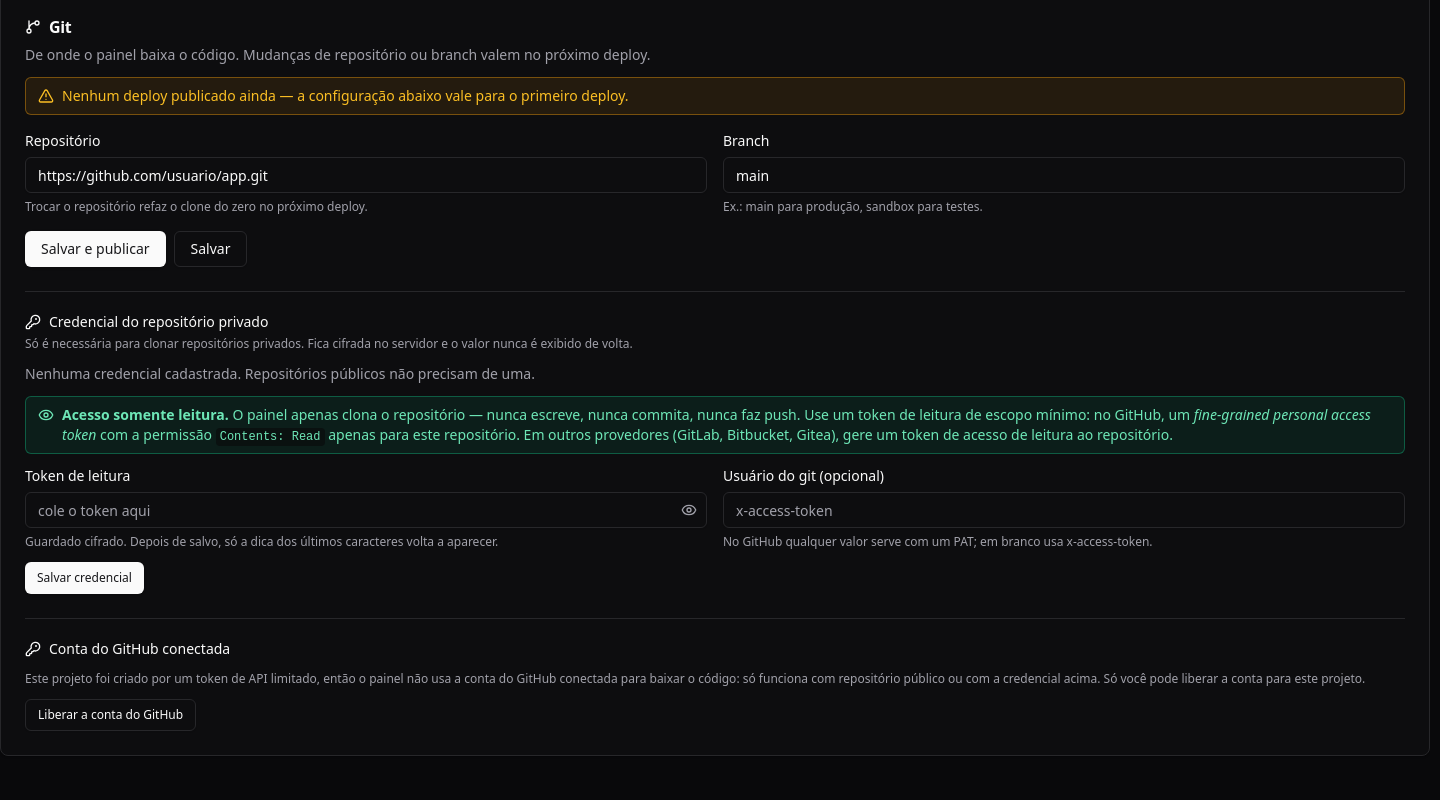
Test case: ProjectConfigCard — seção Geral › conta do GitHub num projeto criado por token limitado › bloqueado: explica e só libera com a senha (código opcional); a senha vai no corpo e o bloco fecha
The width and height of the screenshot is (1440, 800).
Expected: the element with test id "conta-github-bloqueada" shows "token de API limitado", [25,670,1365,687]
Click the button "Liberar a conta do GitHub": (111, 715) [25,699,196,731]
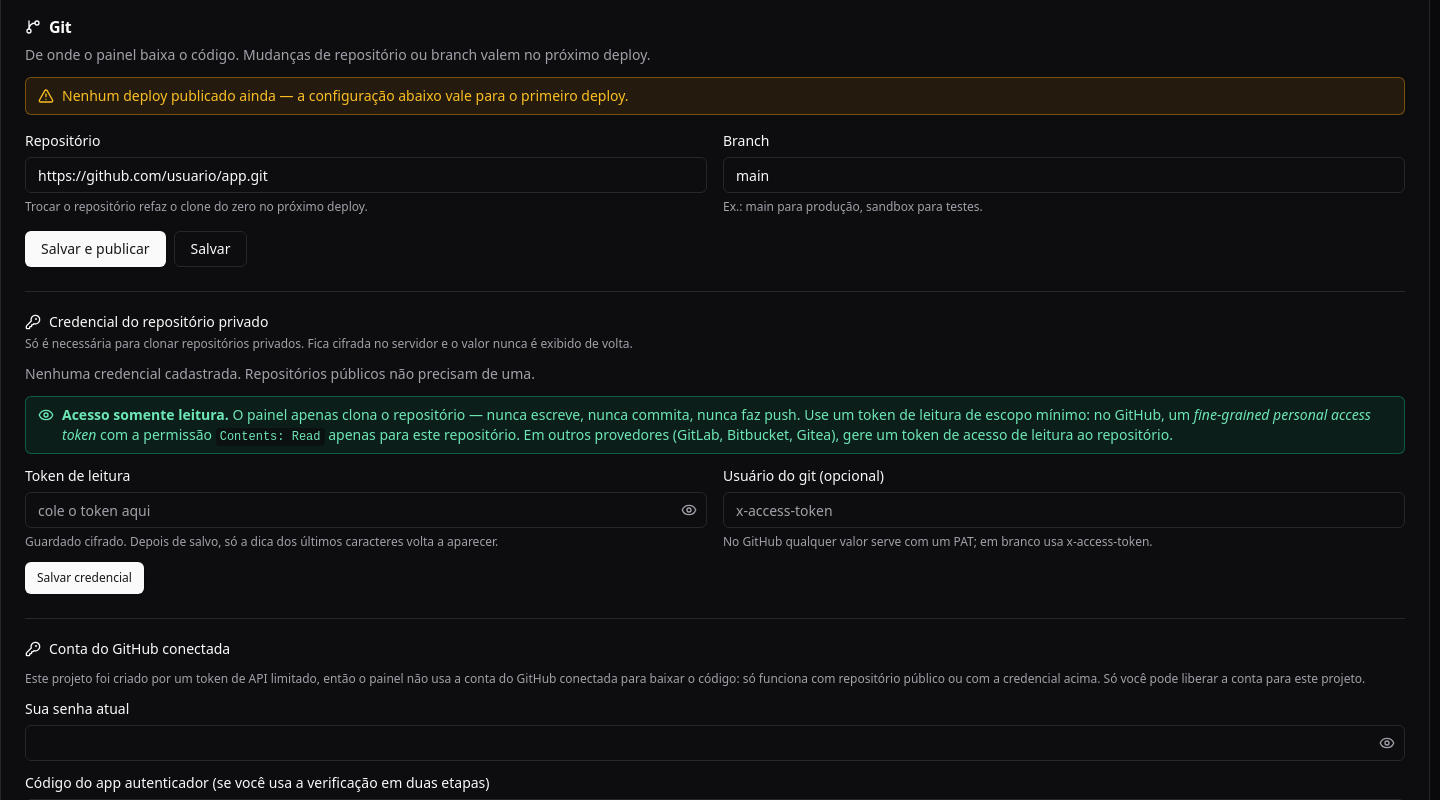
In the password field labelled "Sua senha atual": (715, 743) [25,725,1405,761], type "MinhaSenha123"
(page scrolled)
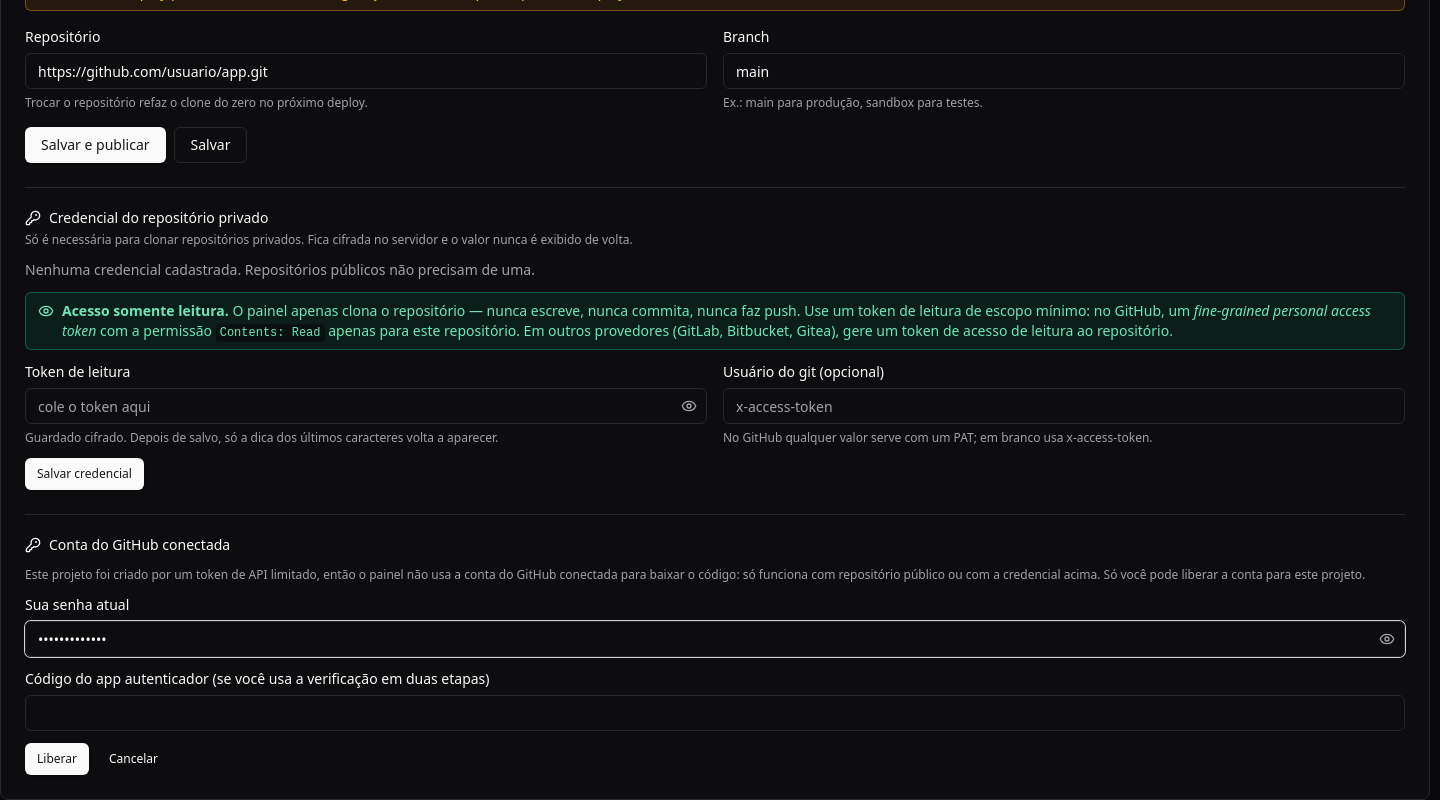
In the field labelled "Código do app autenticador": (715, 713) [25,695,1405,731], type " 123456 "
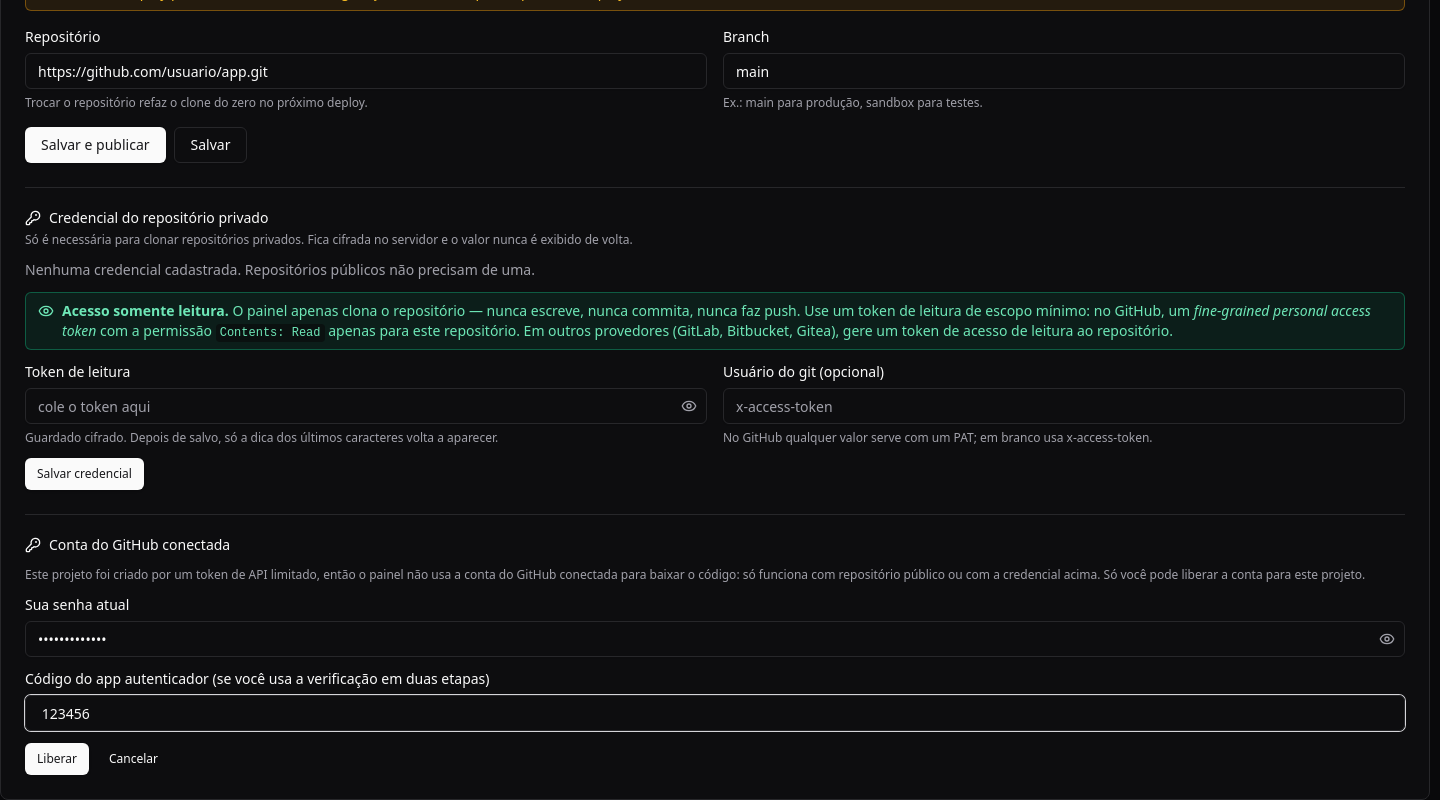
Click the button "Liberar": (57, 759) [25,743,89,775]
(page scrolled)
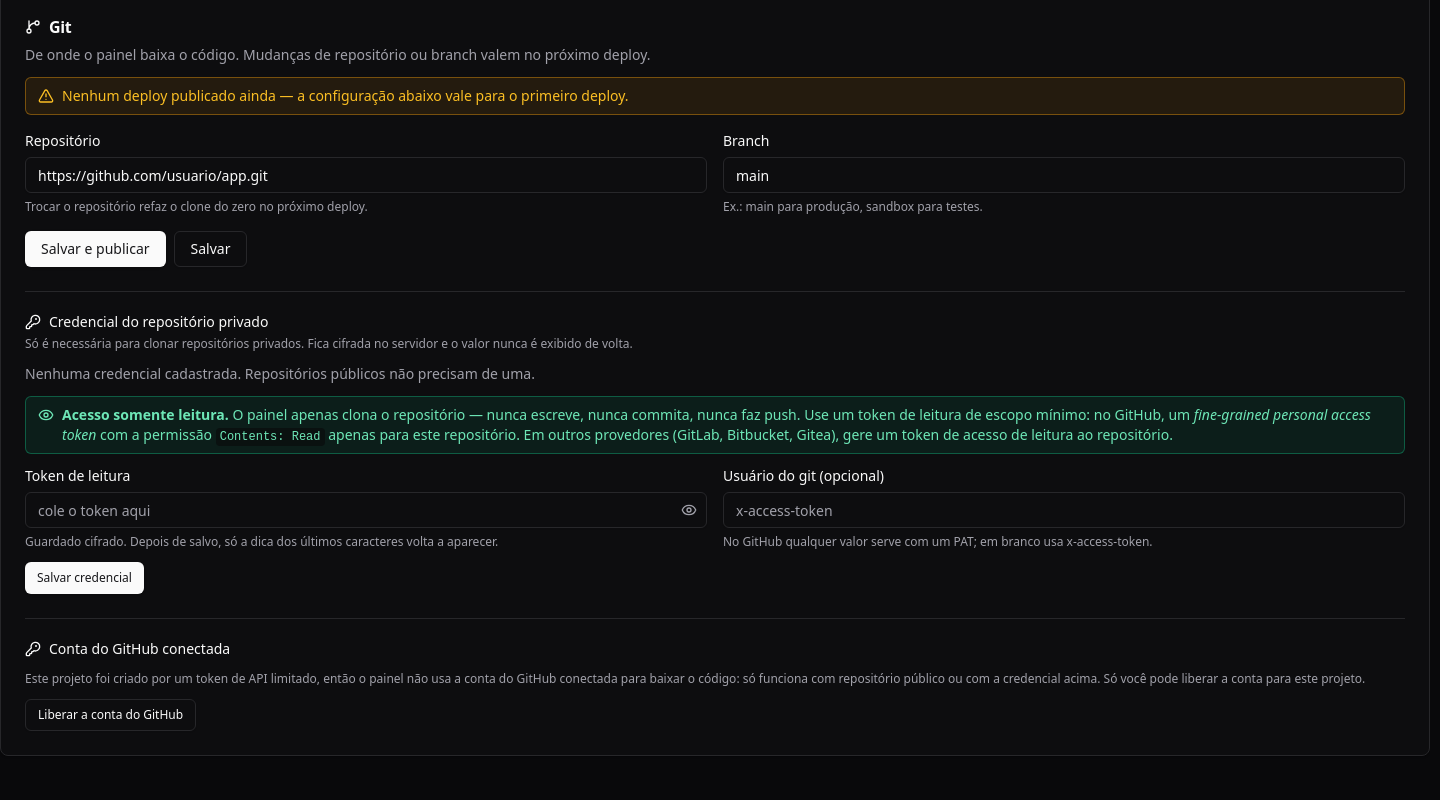
Now the label labelled "Sua senha atual" is gone
